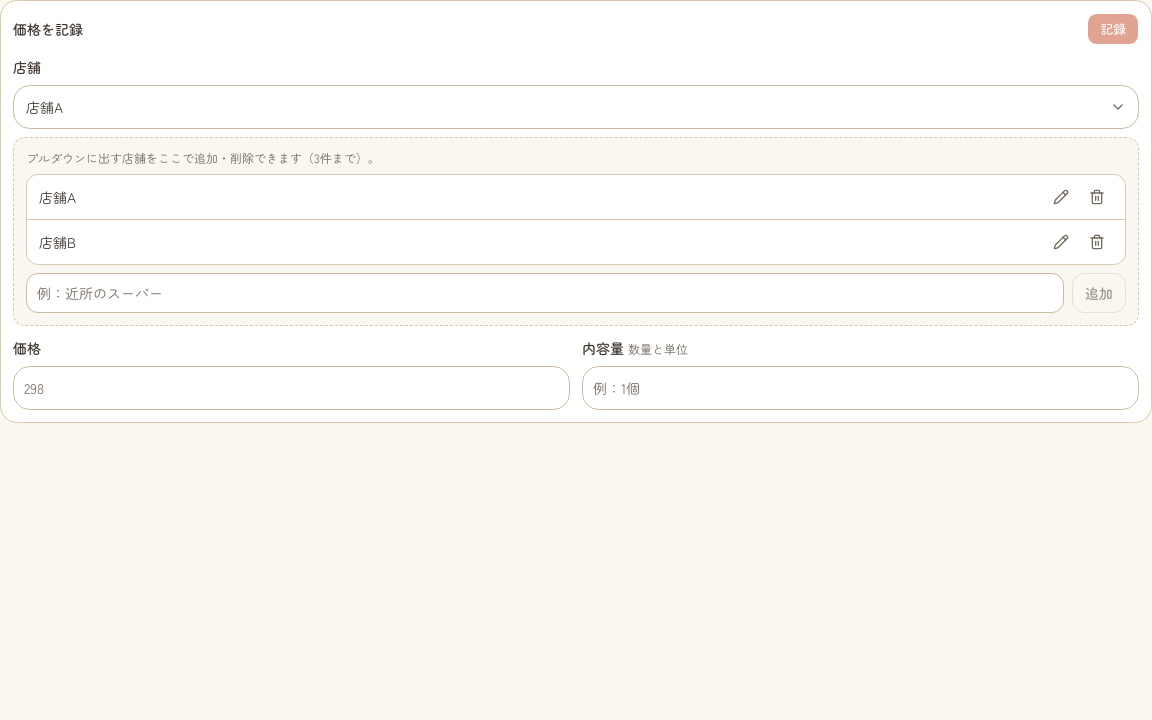
Scenario: PriceRecordForm › PRF-07: 削除アイコンを押すと usage を取得し、件数入りの確認文が出る
The image size is (1152, 720).
Expected: the text "プルダウンに出す店舗をここで追加・削除できます（3件まで）。" is shown, 26,149 -> 380,166
Click the button named "店舗Aを削除". click: [1097, 197]
box: 1081,181 -> 1113,213
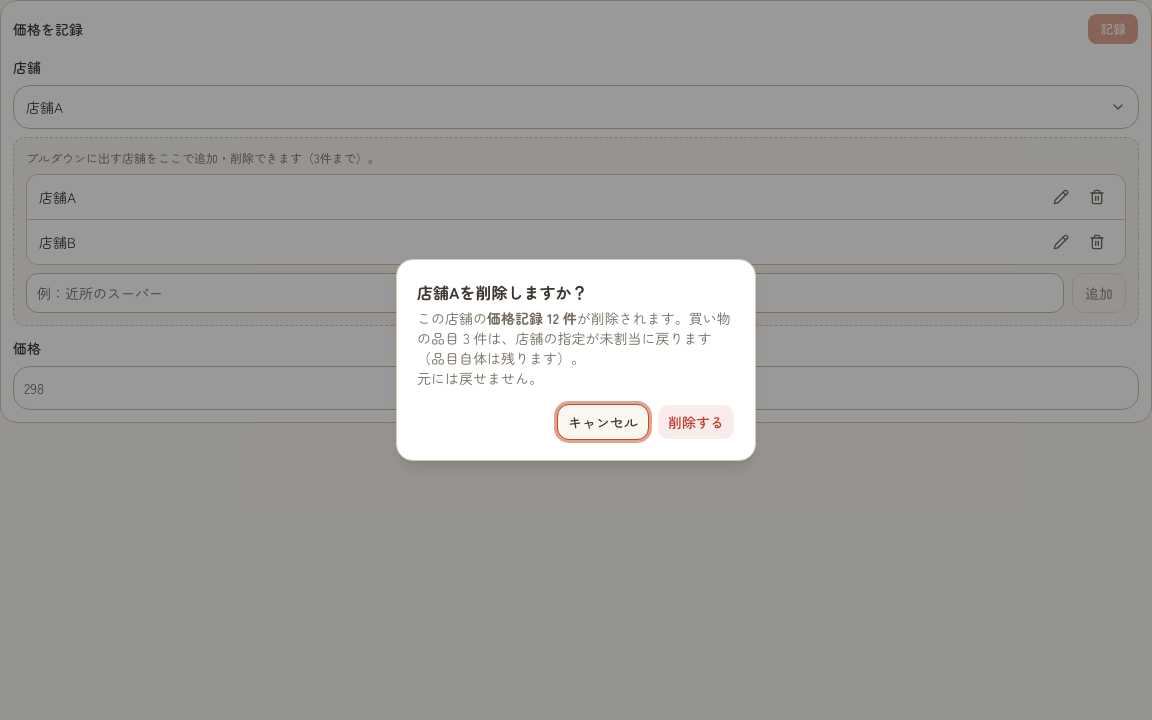
Now the text "価格記録 12 件" is shown, box 487,308 -> 577,328
Now the text "買い物の品目 3 件" is shown, box 417,308 -> 731,368
